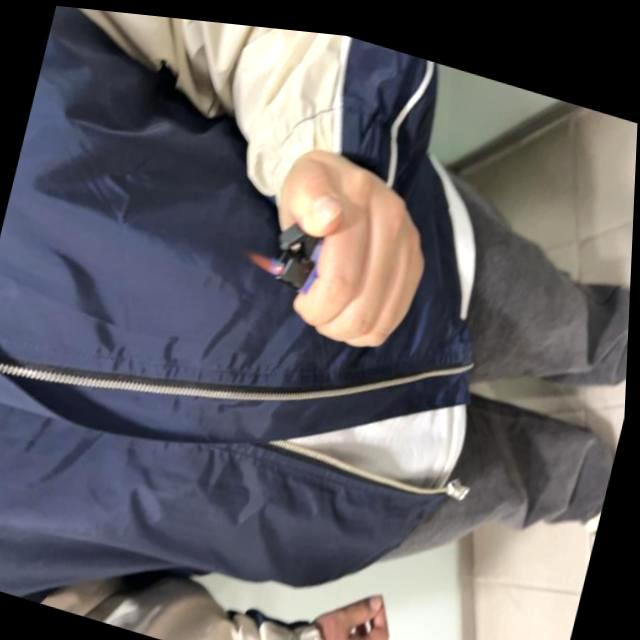fire: (244, 242, 288, 270)
